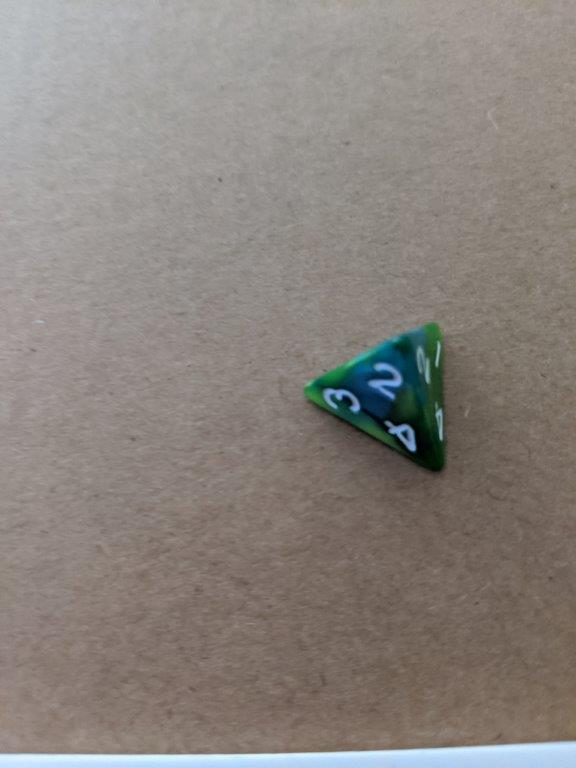d4-2: (302, 313, 453, 480)
